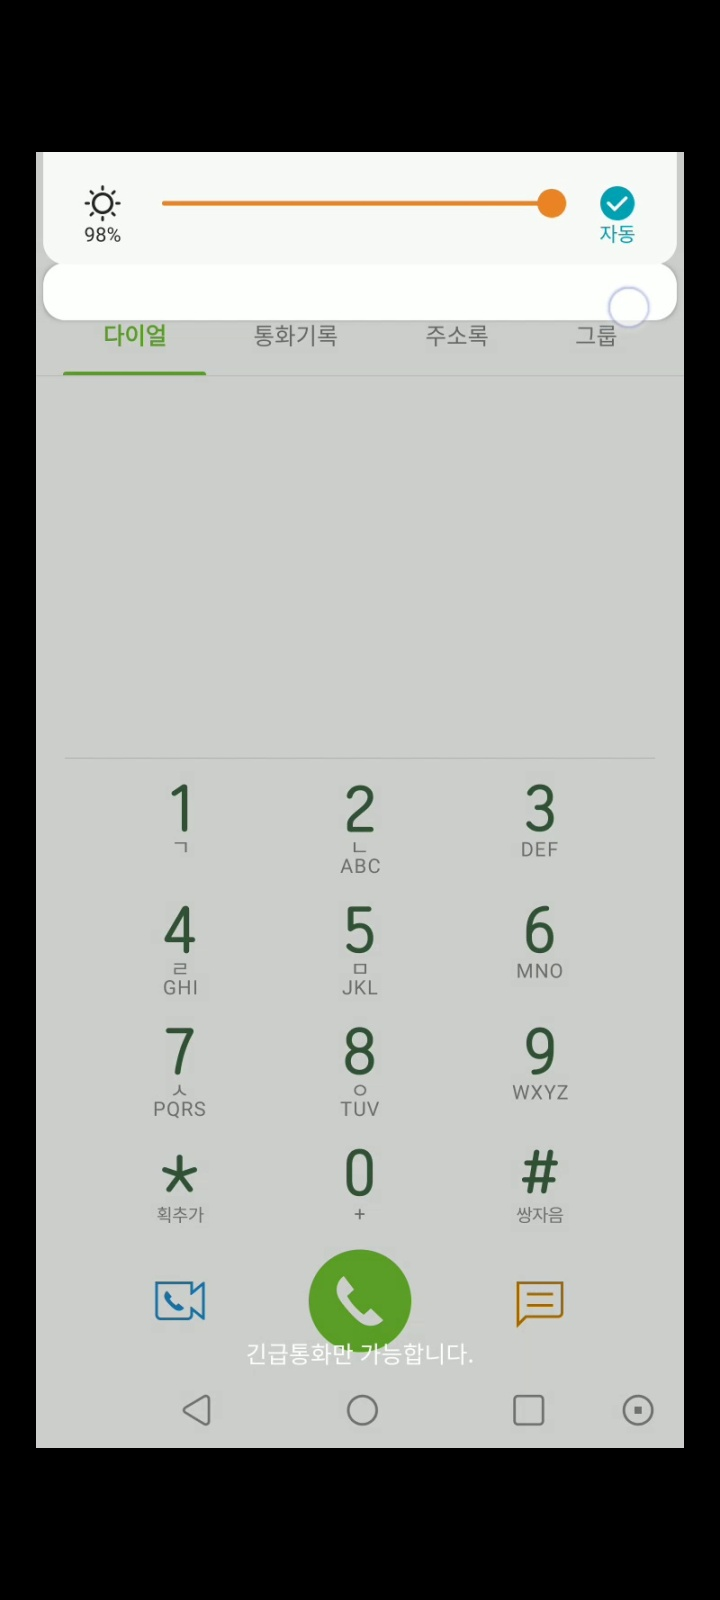Cursor: (607, 286, 652, 331)
